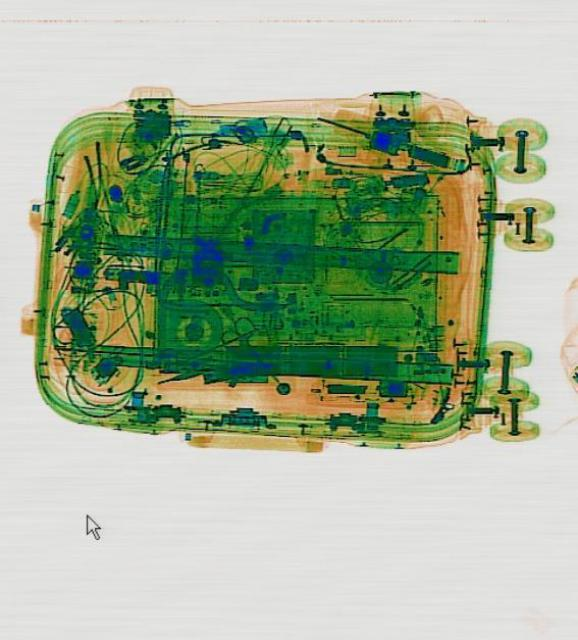Scissors: (217, 312, 291, 388)
